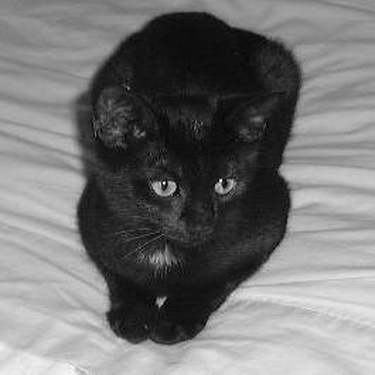cat: (74, 9, 302, 347)
